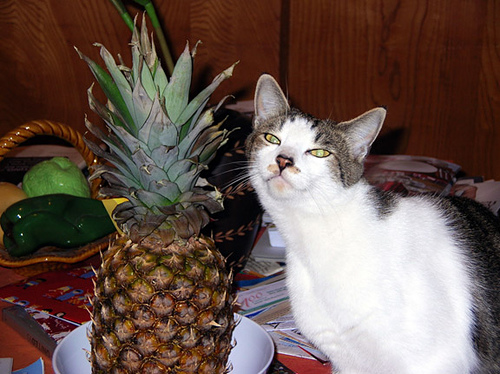pineapple: (74, 13, 236, 373)
